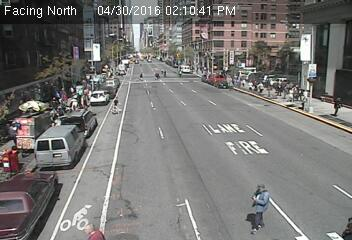neg: (223, 107, 248, 140), (62, 132, 79, 154), (155, 118, 168, 136)
pos: (237, 179, 278, 234), (327, 89, 349, 119), (107, 91, 124, 114)
